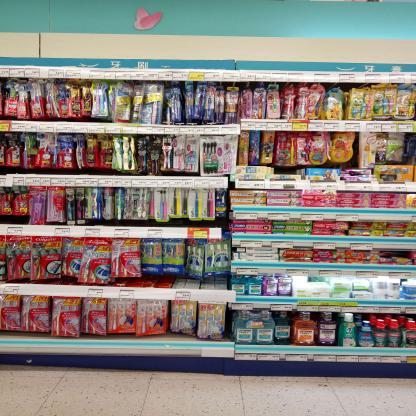Void: (274, 164, 293, 173)
